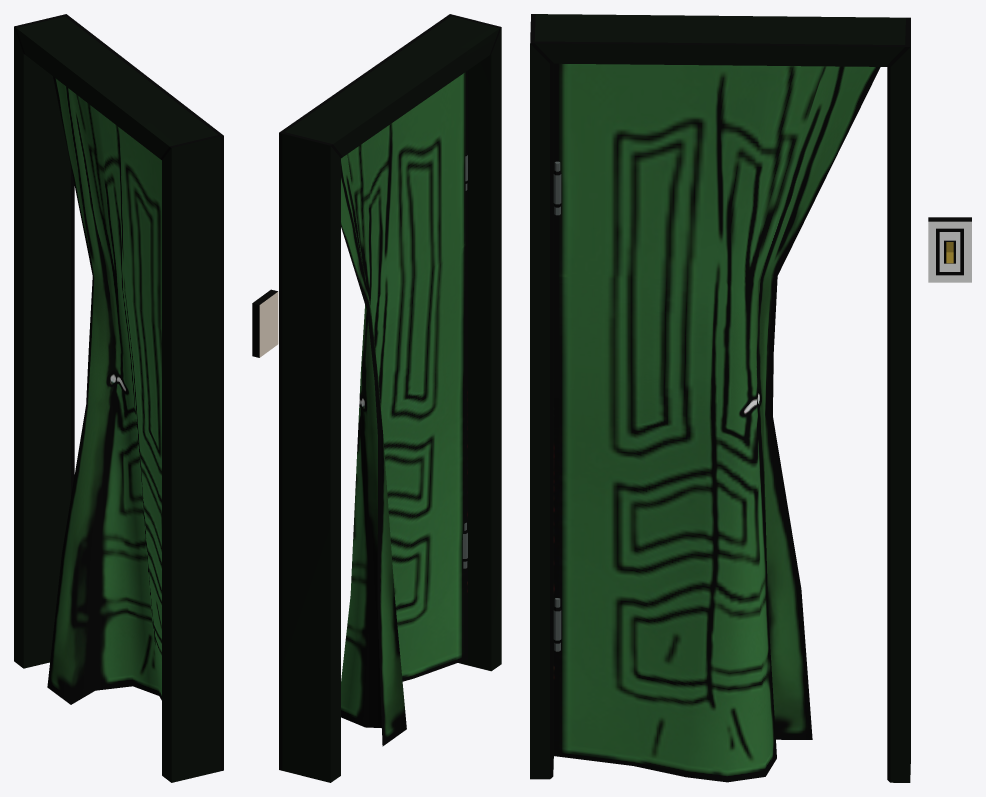
Rendered from puerta_cortina.gltf.
3 renders of one model, left to right at view 1: azimuth 30°, elevation 25°; view 2: azimuth 150°, elevation 25°; view 3: azimuth 270°, elevation 25°, orthographic. The views are drawn at different scales.
Visible parts, largest first — view 1: Puerta_Cortina; view 2: Puerta_Cortina; view 3: Puerta_Cortina.
Boxes of the visible parts, x1,y1,x2,y2 form: Puerta_Cortina: (14,14,223,782); Puerta_Cortina: (252,14,501,782); Puerta_Cortina: (530,14,971,782).
Size of what is drawn, in the model's own units: 0.384 by 3.09 by 1.68.
Materials: 1 (1 with a texture image).
